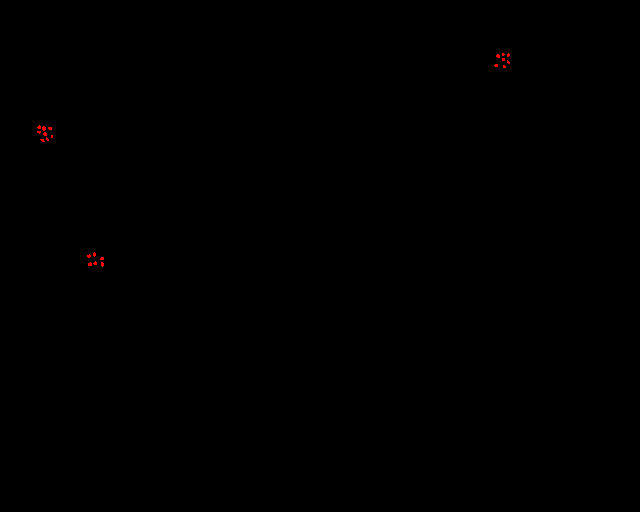Target: (42, 126, 46, 131), (496, 54, 500, 58), (37, 125, 41, 129), (43, 132, 47, 136), (87, 254, 91, 258), (93, 261, 97, 265), (88, 262, 92, 266), (40, 139, 45, 142), (93, 252, 96, 257), (101, 262, 104, 267), (507, 53, 510, 57), (507, 60, 510, 64), (494, 64, 498, 67), (48, 127, 52, 130), (37, 131, 41, 134), (46, 137, 49, 141), (100, 257, 104, 260), (502, 53, 505, 56), (502, 58, 505, 61), (503, 65, 506, 68), (51, 135, 53, 138)
